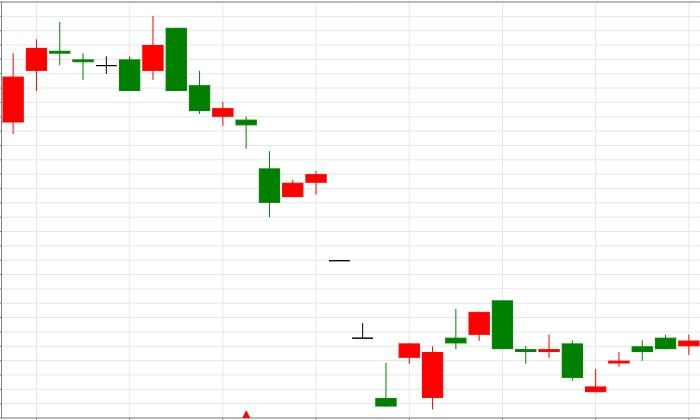bearish_engulfing_fall: (374, 299, 513, 410)
